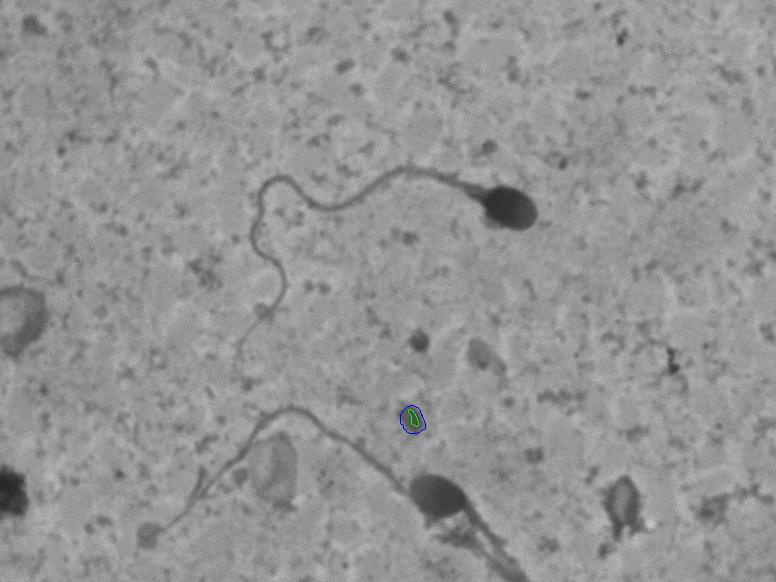Normal: (185, 138, 571, 410)
